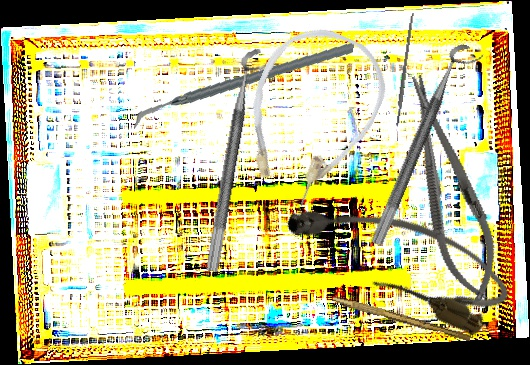Cannula: (276, 170, 520, 343), (219, 12, 401, 219)
Chopper: (133, 20, 355, 151)
Fixation Ring: (369, 40, 485, 254), (204, 46, 277, 276)
Needle Holder: (390, 67, 510, 309)
Scalpel Handle: (331, 295, 472, 343), (394, 12, 415, 127)
